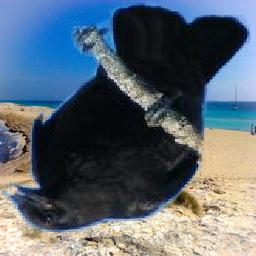Crow: (1, 2, 251, 233)
